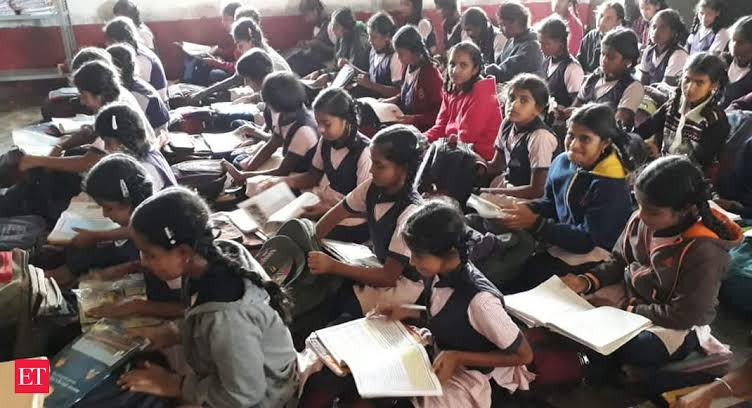student: (125, 190, 214, 277), (398, 200, 471, 283), (631, 159, 700, 240), (73, 158, 161, 219), (552, 99, 608, 172), (81, 102, 151, 160), (363, 126, 421, 188), (66, 61, 131, 113), (307, 87, 363, 146), (594, 24, 639, 86), (252, 65, 300, 121), (443, 36, 484, 98), (502, 77, 548, 127), (534, 14, 578, 64), (678, 55, 722, 104), (62, 43, 110, 79), (390, 24, 426, 67), (648, 14, 683, 50), (731, 14, 752, 53)
